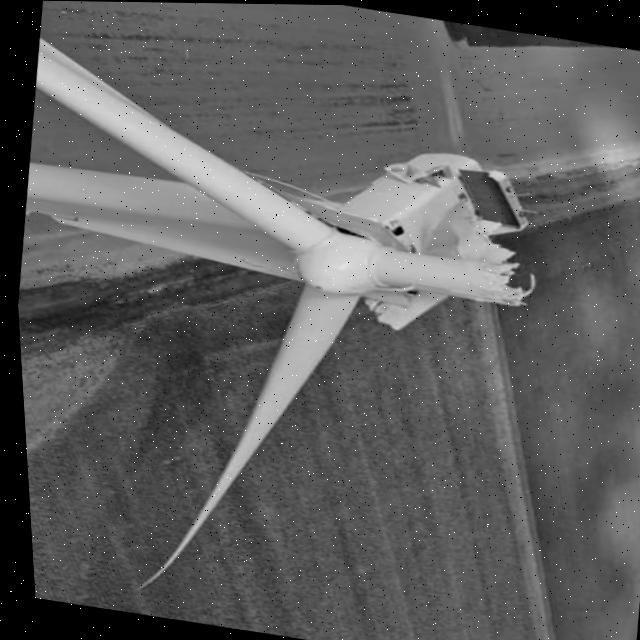damaged-blade: (369, 249, 523, 304)
solid-blade: (132, 285, 354, 588)
